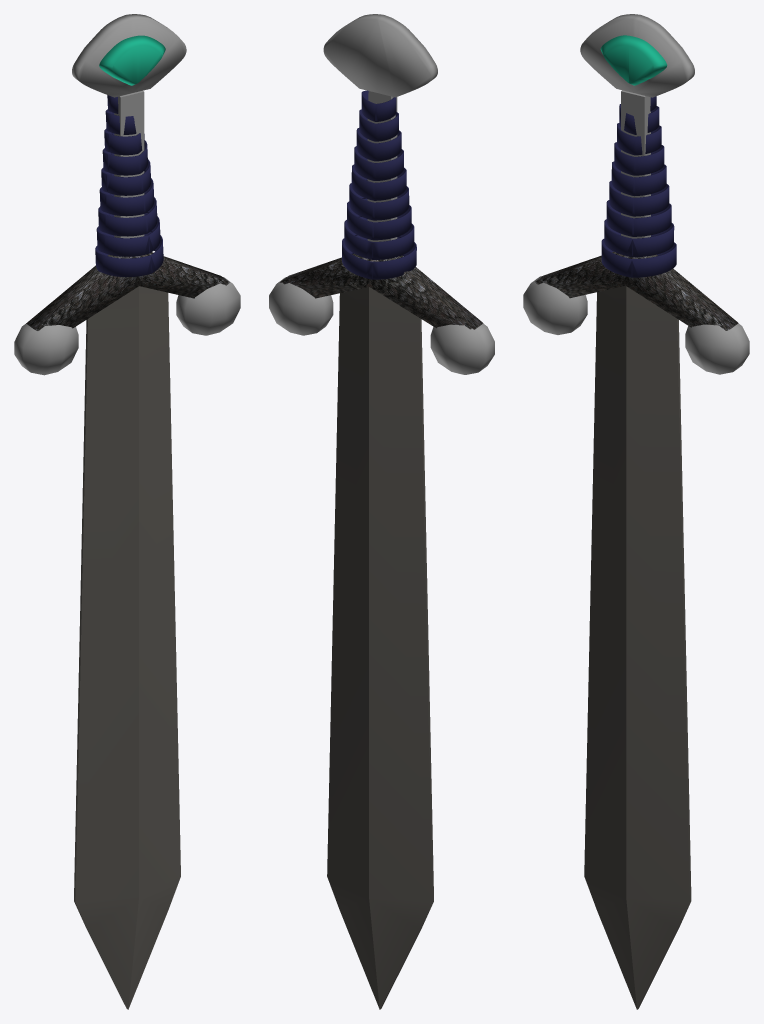
File: espada.FBX
3 views of the same model, side by side, from view 1: azimuth 30°, elevation 25°; view 2: azimuth 150°, elevation 25°; view 3: azimuth 330°, elevation 25° (orthographic).
Parts seen in each view (by area): view 1: Filo, Helix001, Box001, Box002, Line001, Piedra, Box003; view 2: Filo, Helix001, Line001, Box001, Box002, Box003; view 3: Filo, Helix001, Box001, Box002, Line001, Piedra, Box003.
Boxes of the visible parts, <box> form: Filo: <box>74,286,180,1009</box>; Helix001: <box>95,95,163,277</box>; Box001: <box>26,252,229,330</box>; Box002: <box>14,277,240,375</box>; Line001: <box>72,14,186,97</box>; Piedra: <box>99,35,165,85</box>; Box003: <box>114,90,144,257</box>; Filo: <box>327,287,433,1009</box>; Helix001: <box>342,90,416,279</box>; Line001: <box>323,14,437,97</box>; Box001: <box>280,253,483,329</box>; Box002: <box>269,277,494,374</box>; Box003: <box>367,91,397,241</box>; Filo: <box>584,285,691,1009</box>; Helix001: <box>601,96,676,277</box>; Box001: <box>535,251,738,330</box>; Box002: <box>523,276,749,374</box>; Line001: <box>580,14,694,97</box>; Piedra: <box>600,35,667,85</box>; Box003: <box>621,90,650,257</box>.
Bounding box in the file's own units: 217 × 947 × 54.3.
Materials: 5 (1 with a texture image).
